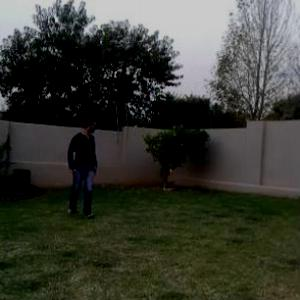follow: (61, 108, 105, 235)
